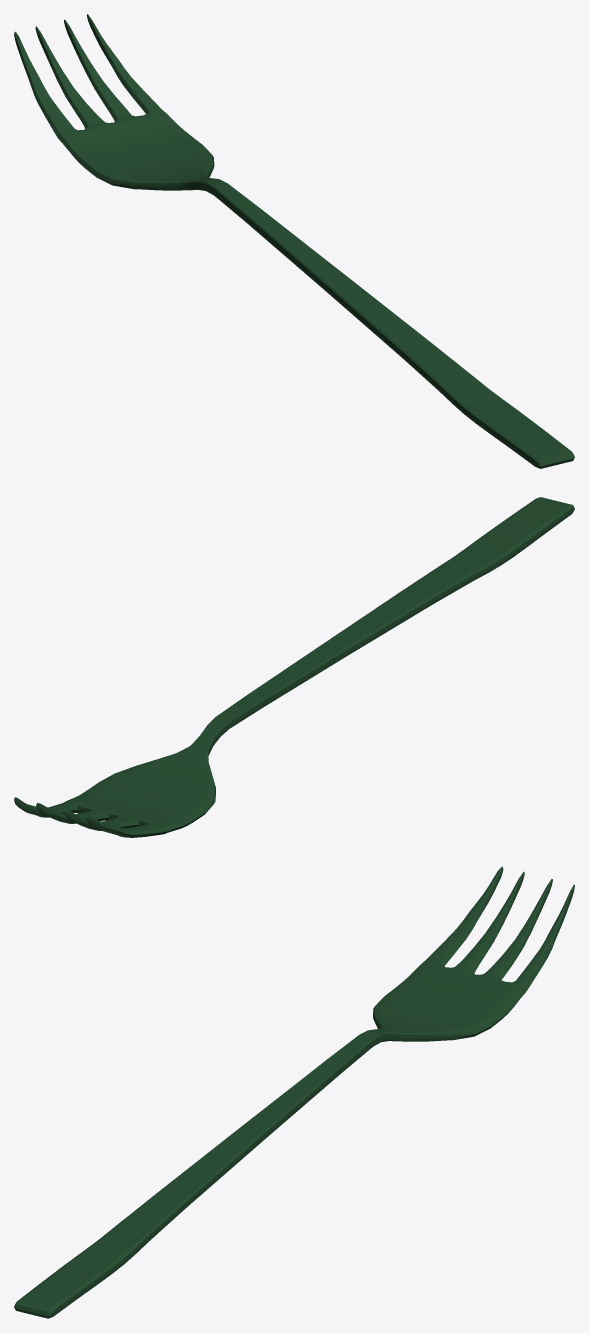
File: fork_V1.fbx
The picture shows the model from 3 angles, top to bottom: view 1: azimuth 30°, elevation 25°; view 2: azimuth 150°, elevation 25°; view 3: azimuth 330°, elevation 25°; orthographic projection.
Visible parts, largest first — view 1: fork_GEO_001; view 2: fork_GEO_001; view 3: fork_GEO_001.
Boxes of the visible parts, x1=… form: fork_GEO_001: x1=14, y1=14, x2=574, y2=468; fork_GEO_001: x1=14, y1=497, x2=574, y2=837; fork_GEO_001: x1=14, y1=866, x2=574, y2=1318.
Size of the model in its own units: 2.01 by 1.26 by 16.14.
